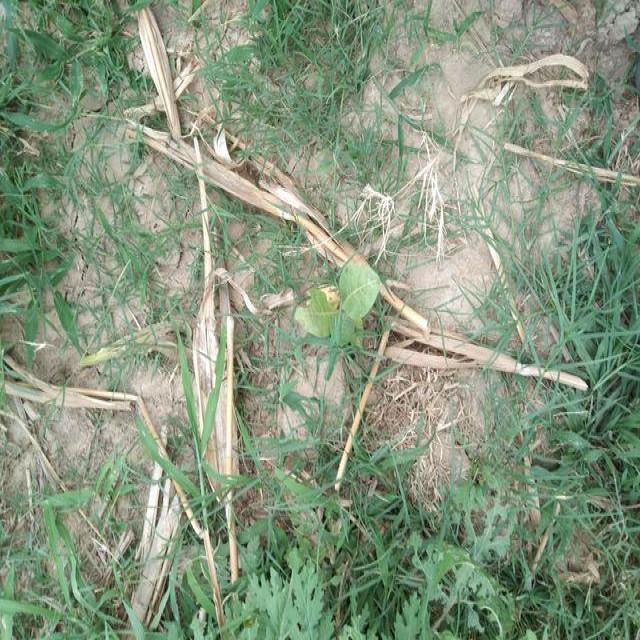crop: (312, 237, 382, 358)
